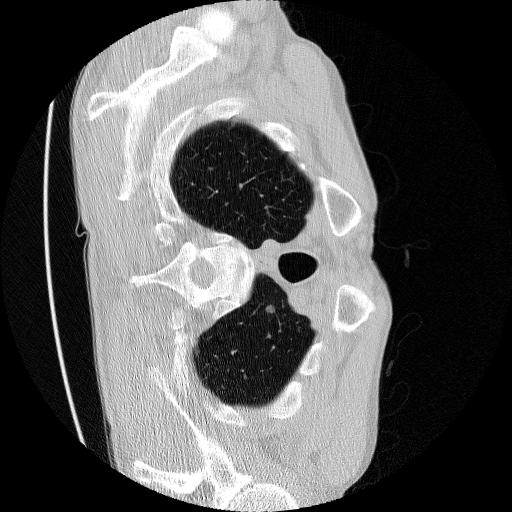nodule: (264, 304, 279, 319)
